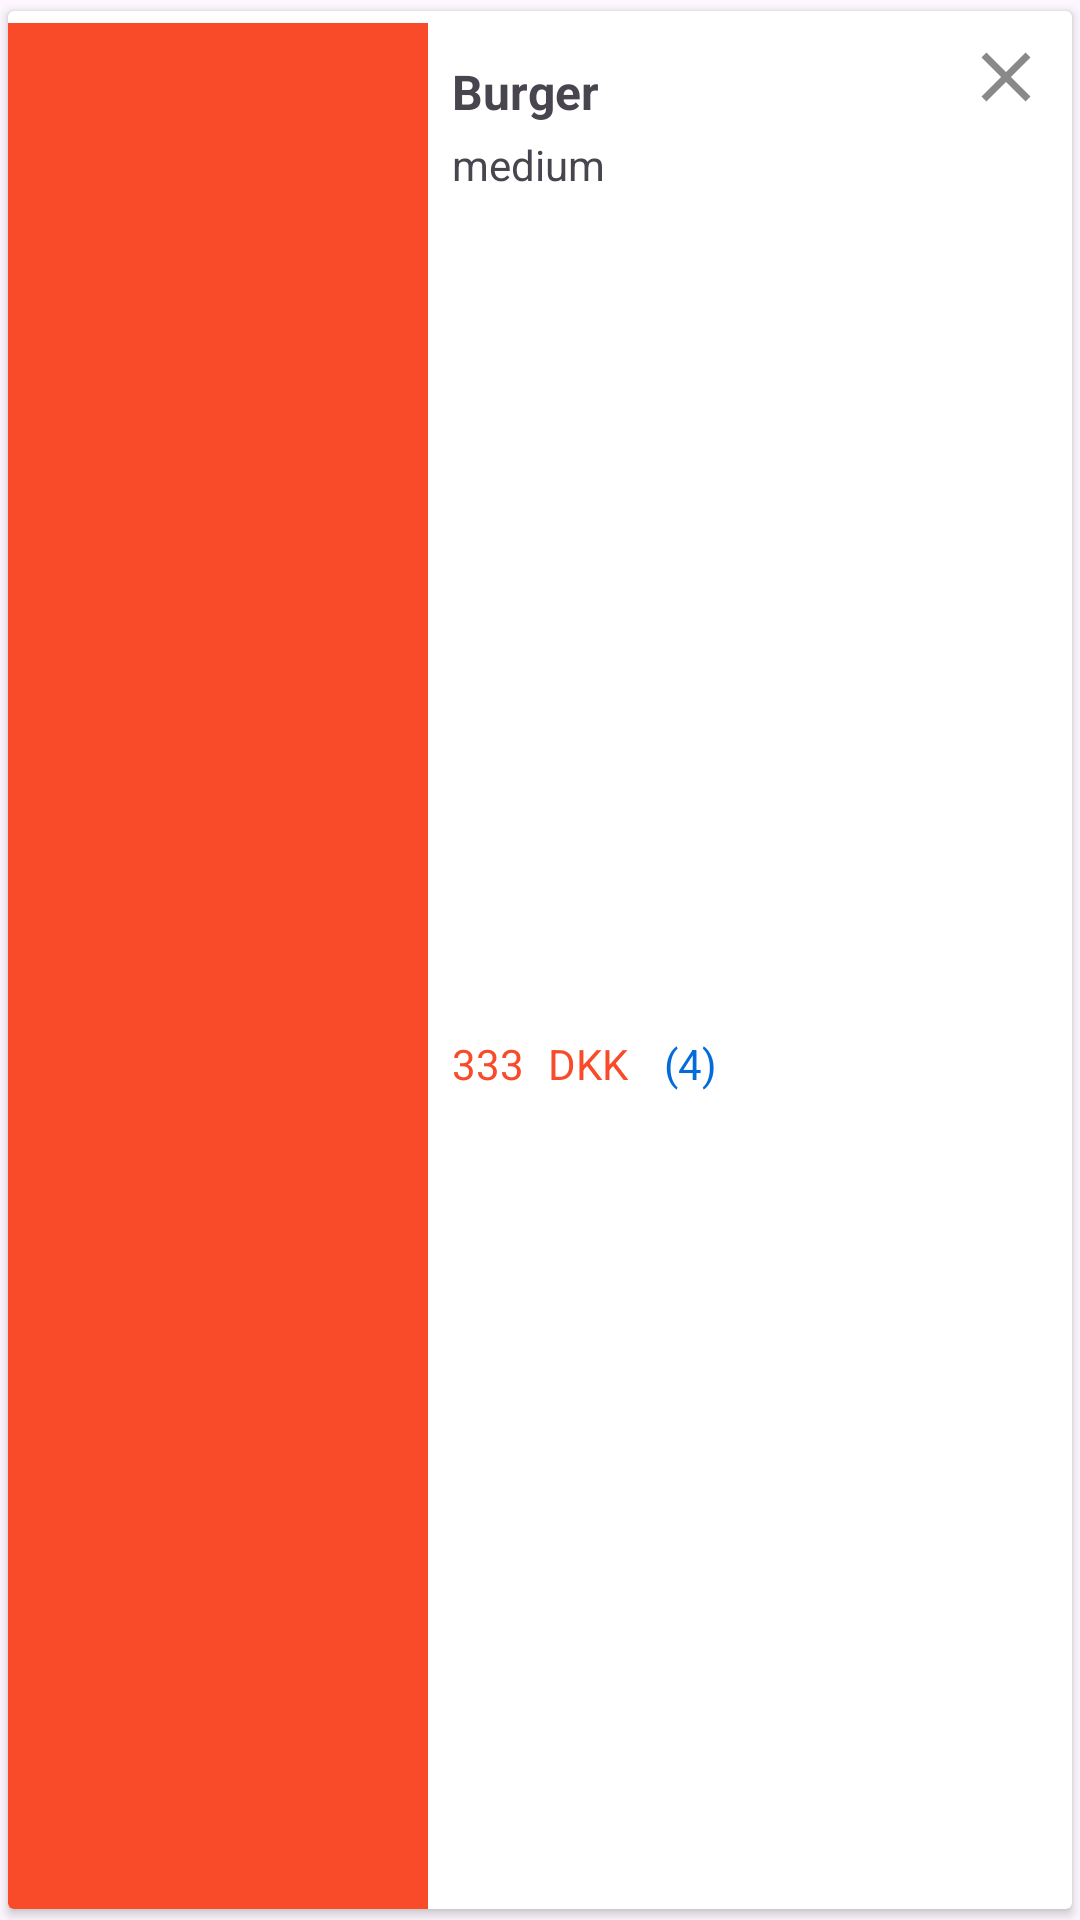

Icon bounding boxes for this 1080×1920 phone screenshot, format box(x1, y1, x2, y2):
close: box(981, 52, 1031, 102)
